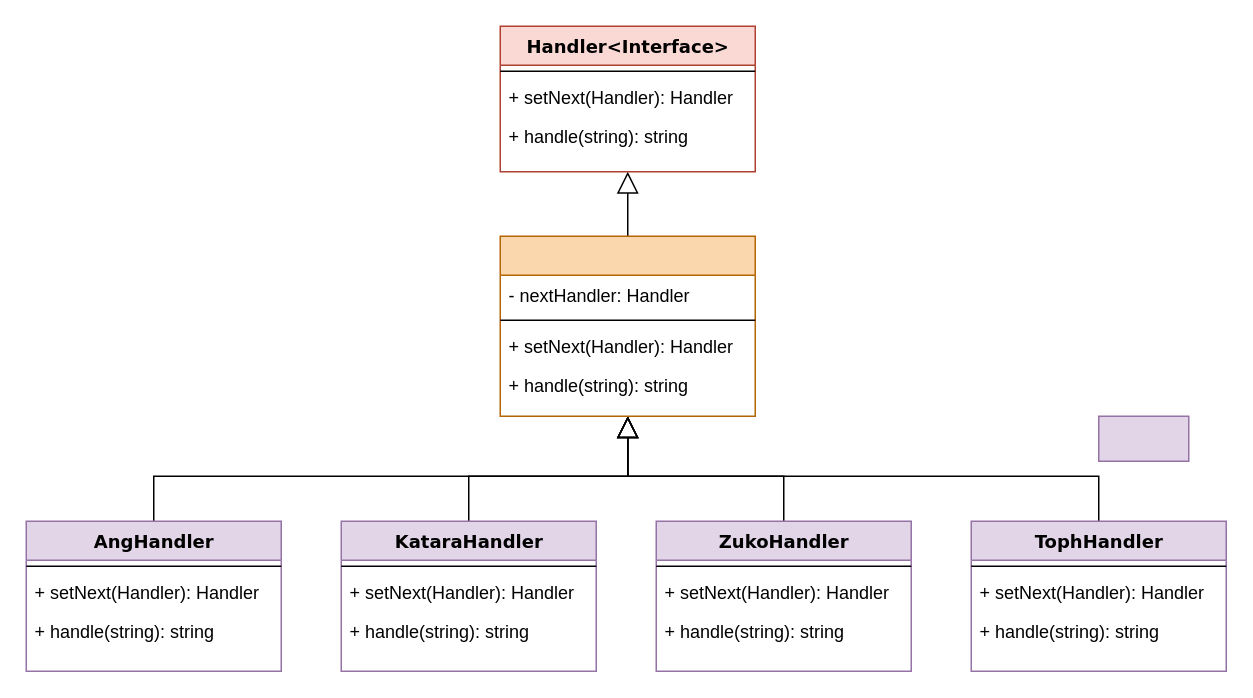
Some shapes in this 1253 by 698 pixel diagram are drawn without their labels. Each missing label, with the box of its shape:
AbstractHandler: (499, 235, 755, 416)
Concrete Handler: (1097, 415, 1189, 461)
